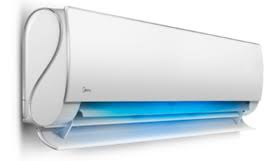ac: (21, 2, 268, 150)
